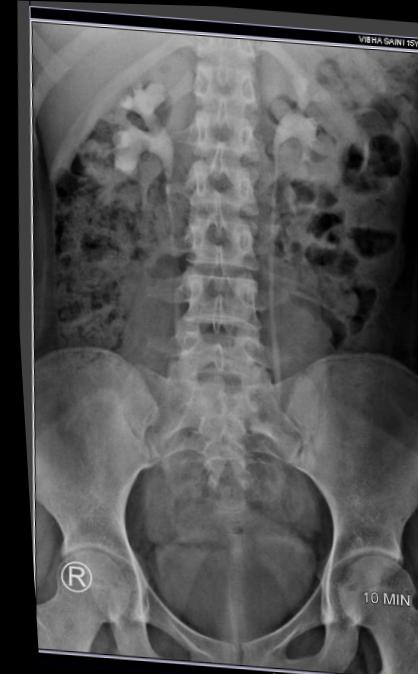left kidney: (262, 36, 394, 222)
right kidney: (48, 56, 173, 236)
vertebrae: (171, 91, 259, 156)
